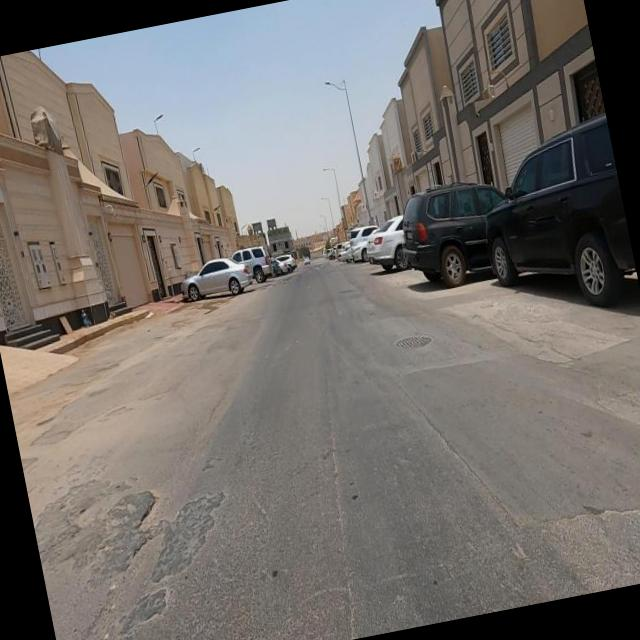debris: (63, 288, 114, 349), (130, 284, 173, 352)
